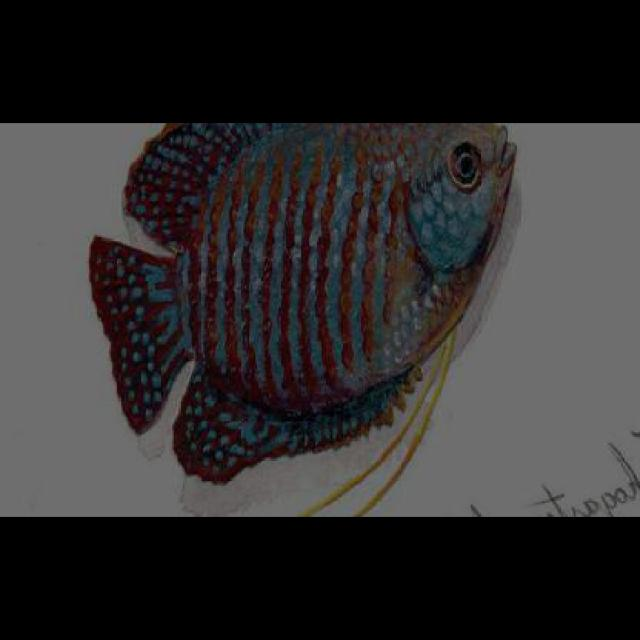Gourami: (79, 121, 518, 478)
